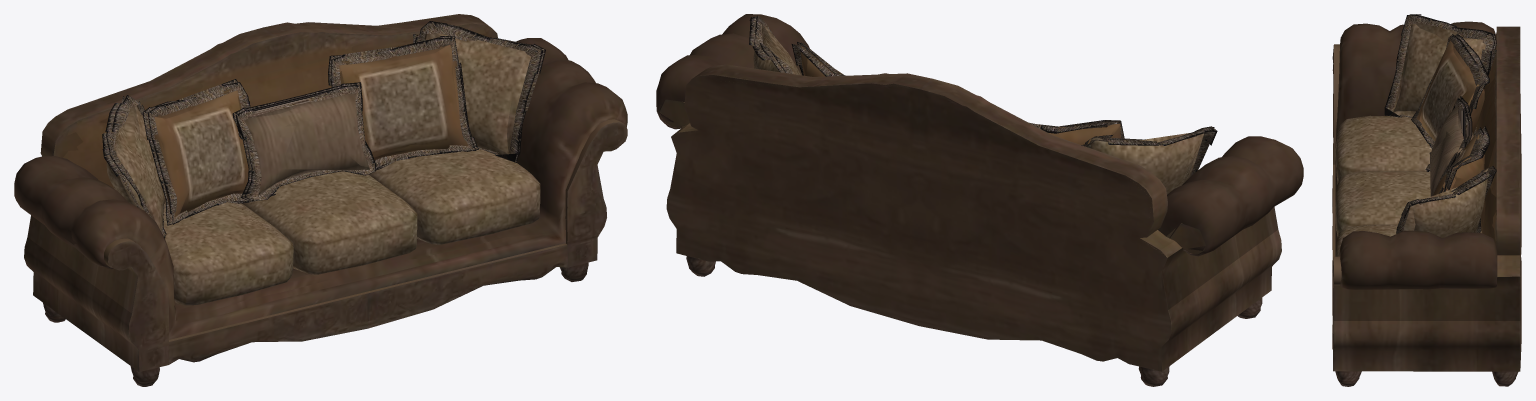
File: sofa_03.glb
3 views of the same model, side by side, from view 1: azimuth 30°, elevation 25°; view 2: azimuth 150°, elevation 25°; view 3: azimuth 270°, elevation 25° (orthographic). The views are drawn at different scales.
Parts seen in each view (by area): view 1: sofa_03, sofa_03_lo; view 2: sofa_03_lo, sofa_03; view 3: sofa_03, sofa_03_lo.
Part boxes in pixels (x1,y1,x2,y2): sofa_03: (14,14,627,386); sofa_03_lo: (18,21,625,383); sofa_03_lo: (659,20,1295,379); sofa_03: (656,14,1303,386); sofa_03: (1332,14,1521,386); sofa_03_lo: (1332,22,1521,381).
Bounding box in the file's own units: 2.73 × 1.12 × 0.925.
2 materials, 2 textured.
